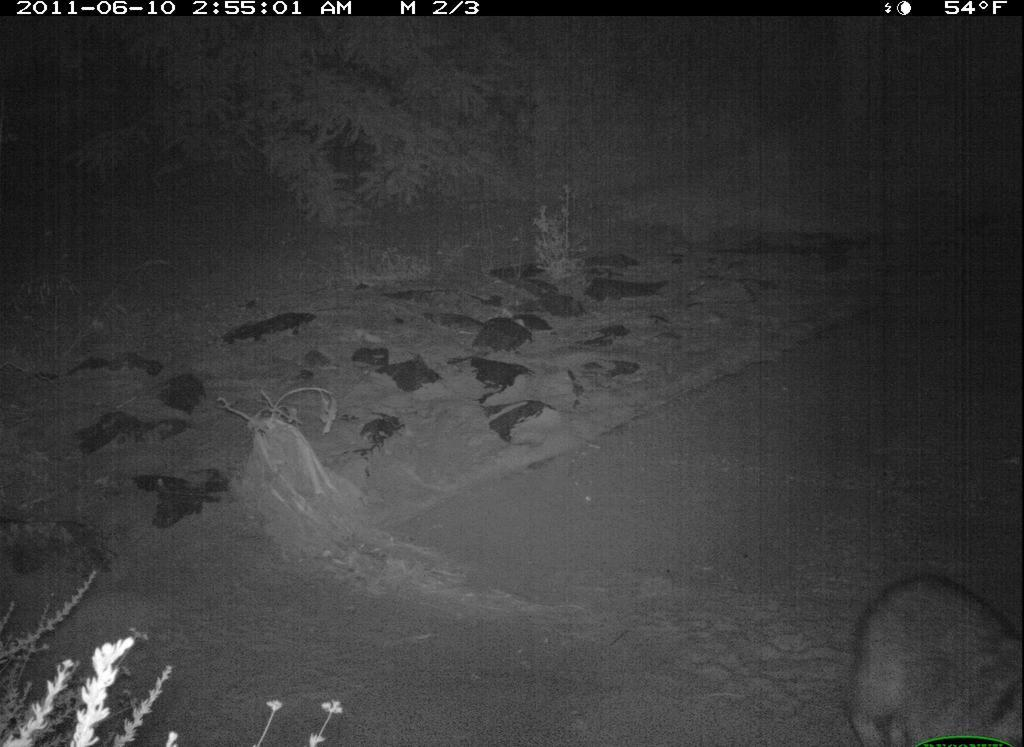raccoon: (829, 571, 1023, 747)
